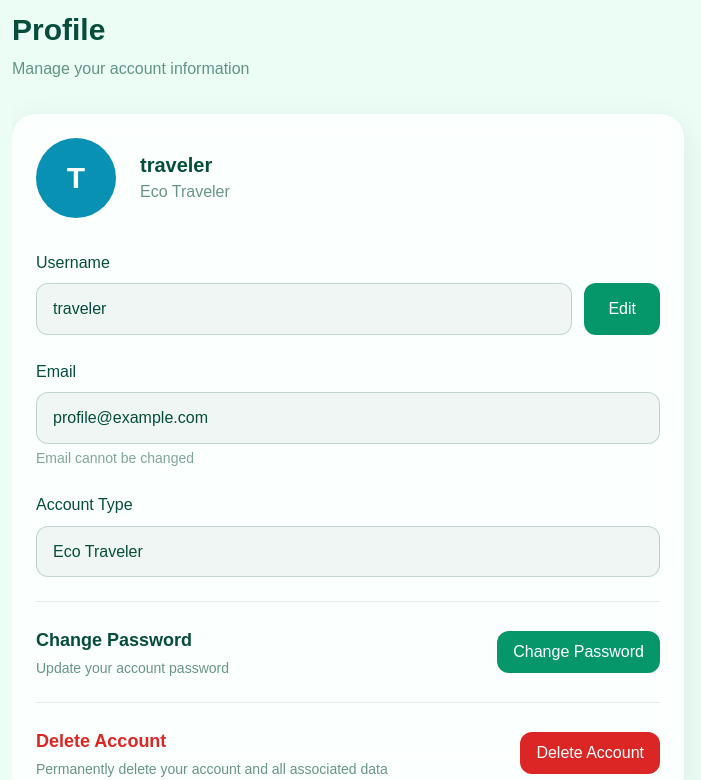
Scenario: ProfileTab › rejects an empty username
Click the button "Edit": (622, 309) [584,283,660,335]
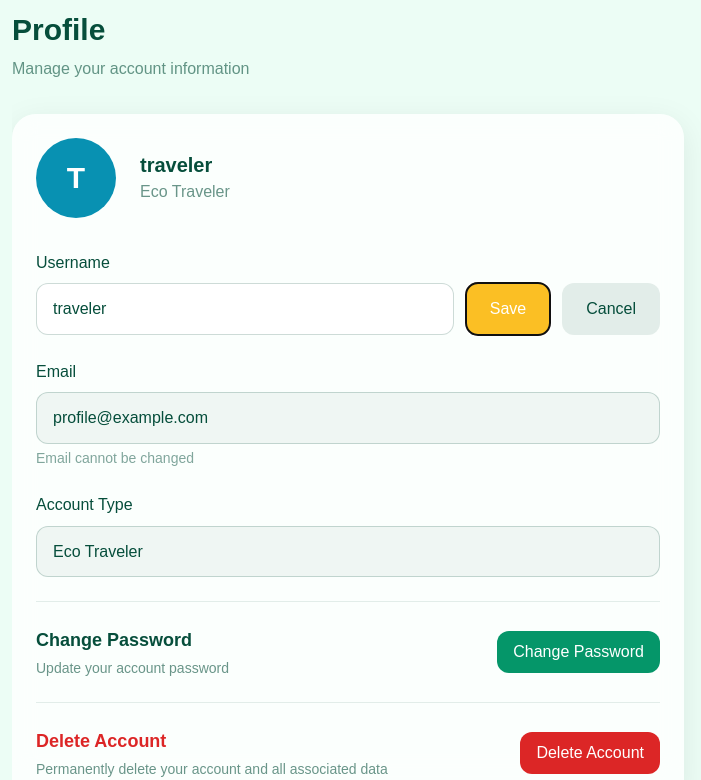
Clear the field with placeholder "Enter username" below "Username": (245, 309) [36,283,454,335]
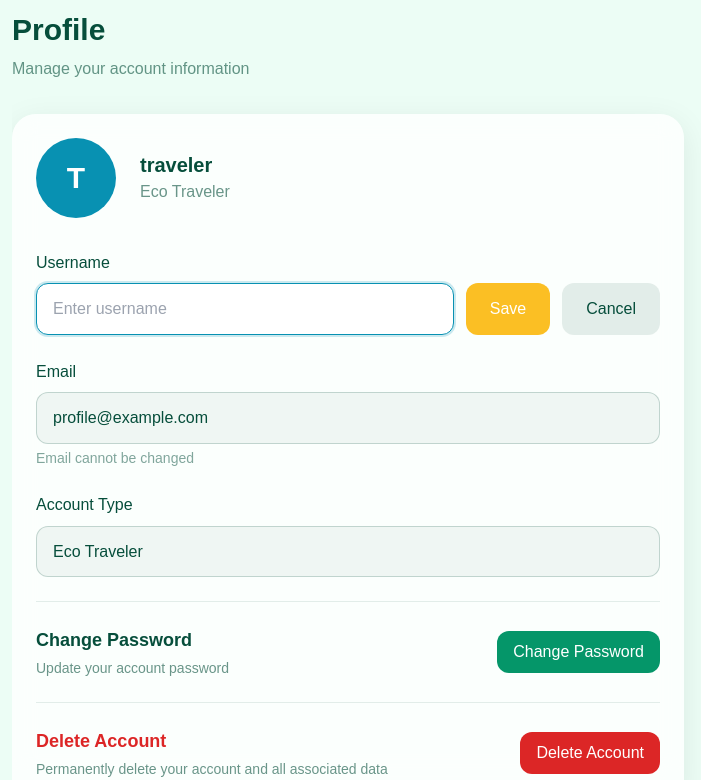
Click the button "Save": (508, 309) [466,283,550,335]
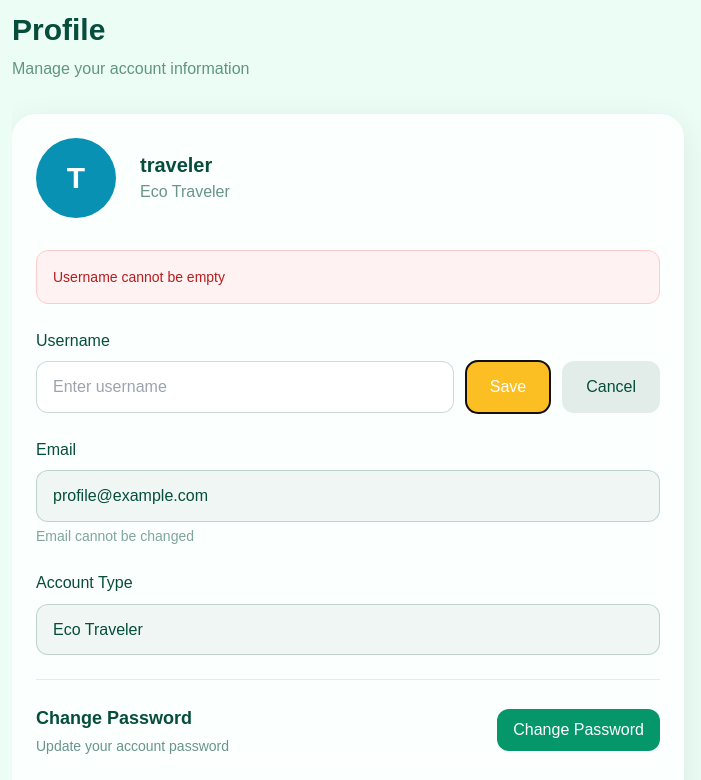
Result: the text "Username cannot be empty" is shown at [53,269,225,285]
